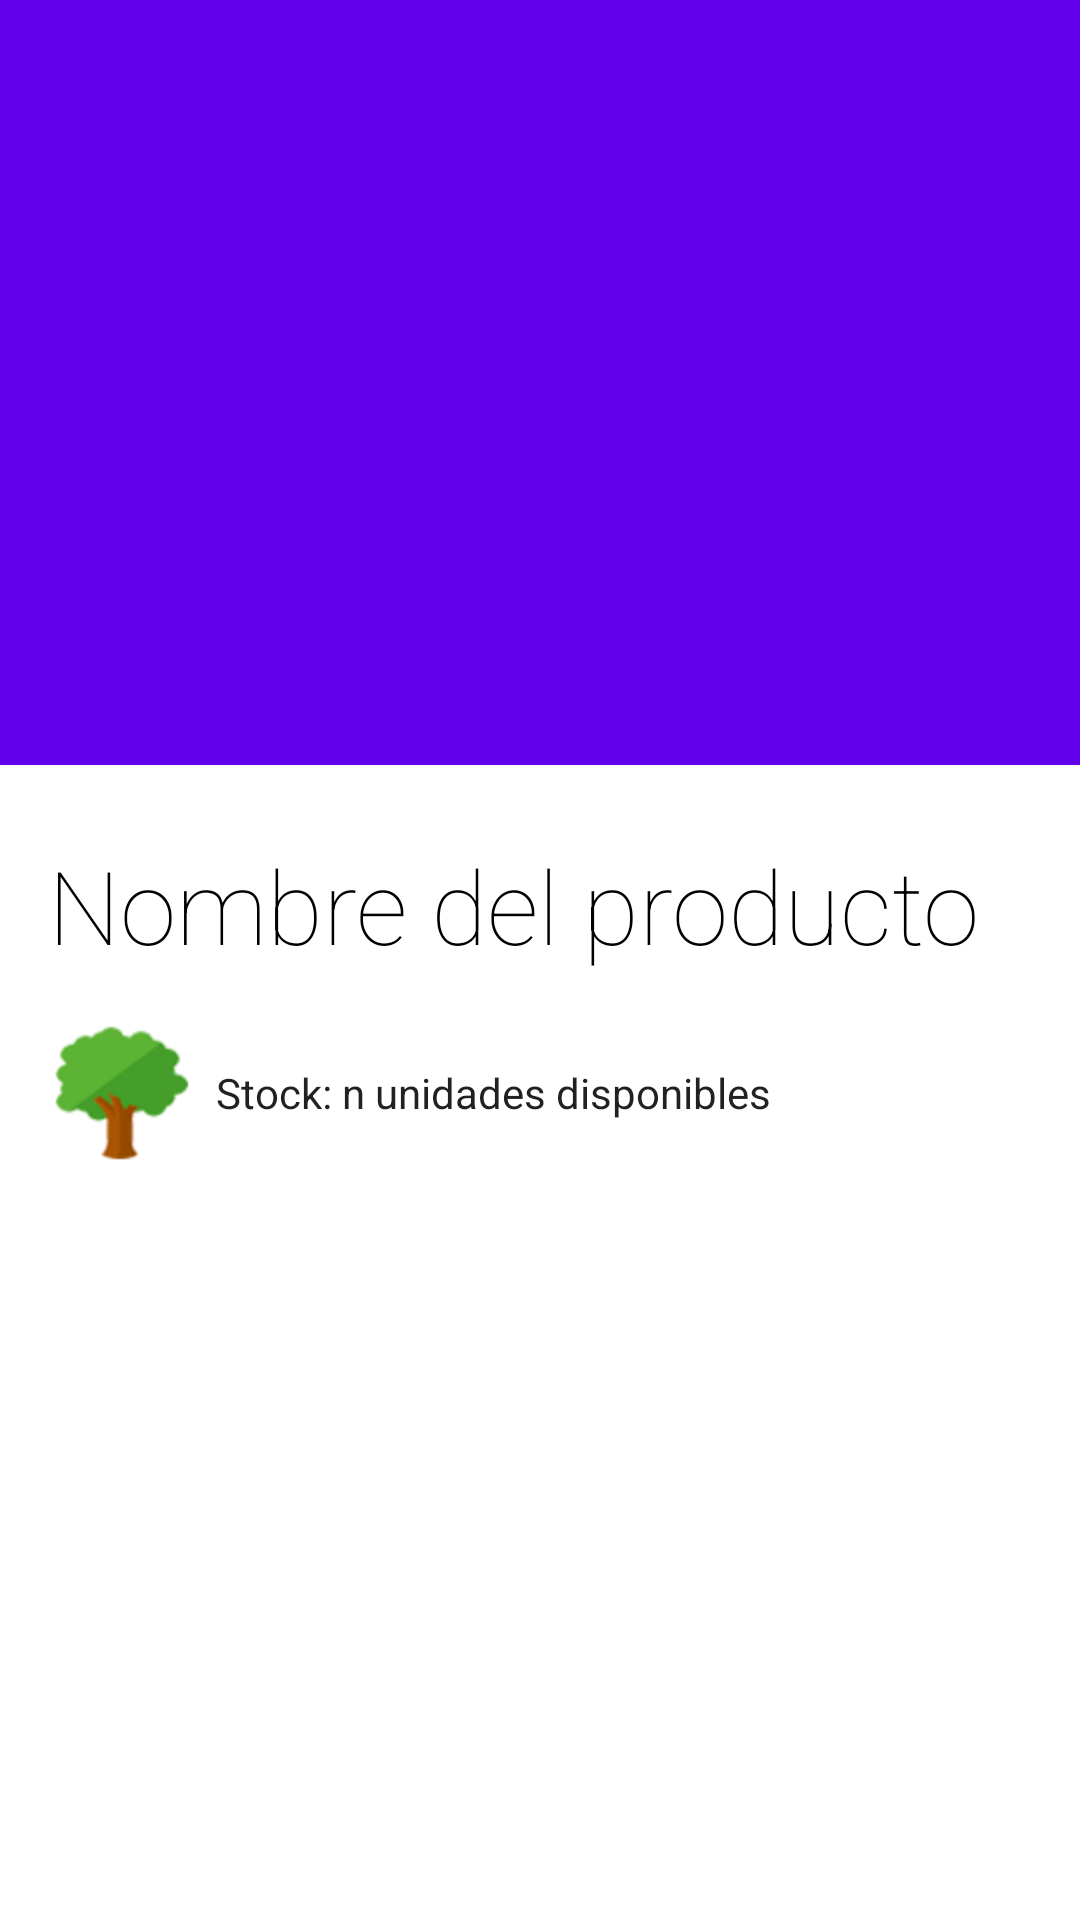

Icons on this 1080px x 1920px Android screen, each with its box as (x1, y1, x2, y2):
tree womder: (55, 1026, 189, 1160)
